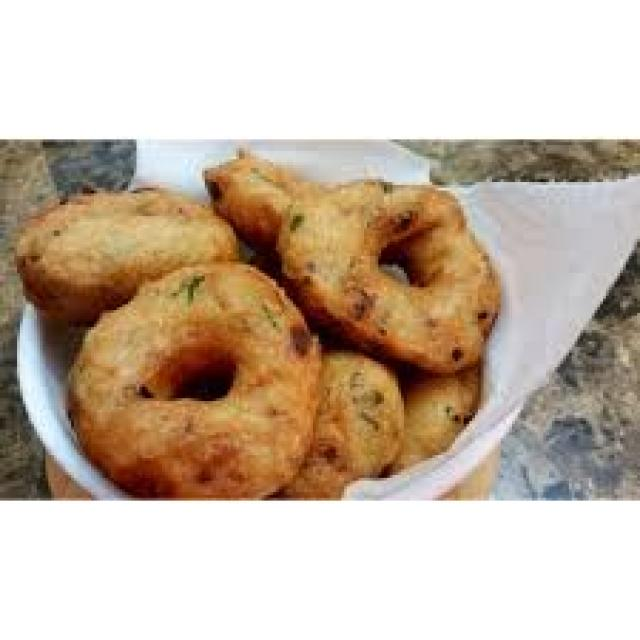MEDU VADA: (78, 269, 325, 495), (283, 177, 510, 379), (23, 180, 236, 302), (264, 352, 407, 512), (205, 146, 307, 247), (399, 369, 491, 475)
